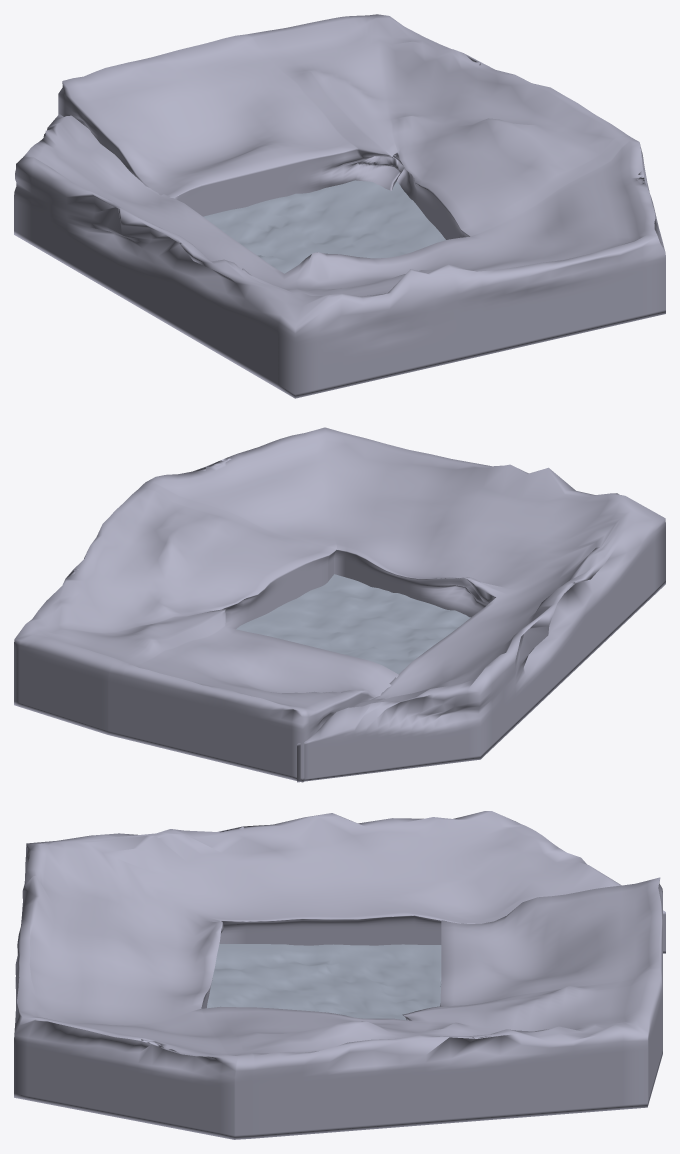
The model's file is floor.fbx.
3 renders of one model, top to bottom at view 1: azimuth 30°, elevation 25°; view 2: azimuth 150°, elevation 25°; view 3: azimuth 270°, elevation 25°, orthographic. The views are drawn at different scales.
Parts seen in each view (by area): view 1: Cube.002, Cube; view 2: Cube.002, Cube; view 3: Cube.002, Cube.
Boxes of the visible parts, x1=… form: Cube.002: x1=14, y1=14, x2=665, y2=398; Cube: x1=203, y1=180, x2=445, y2=273; Cube.002: x1=14, y1=427, x2=665, y2=782; Cube: x1=236, y1=574, x2=470, y2=674; Cube.002: x1=14, y1=811, x2=665, y2=1139; Cube: x1=207, y1=944, x2=441, y2=1020.
Size of the model in its own units: 4557 by 858 by 5089.
